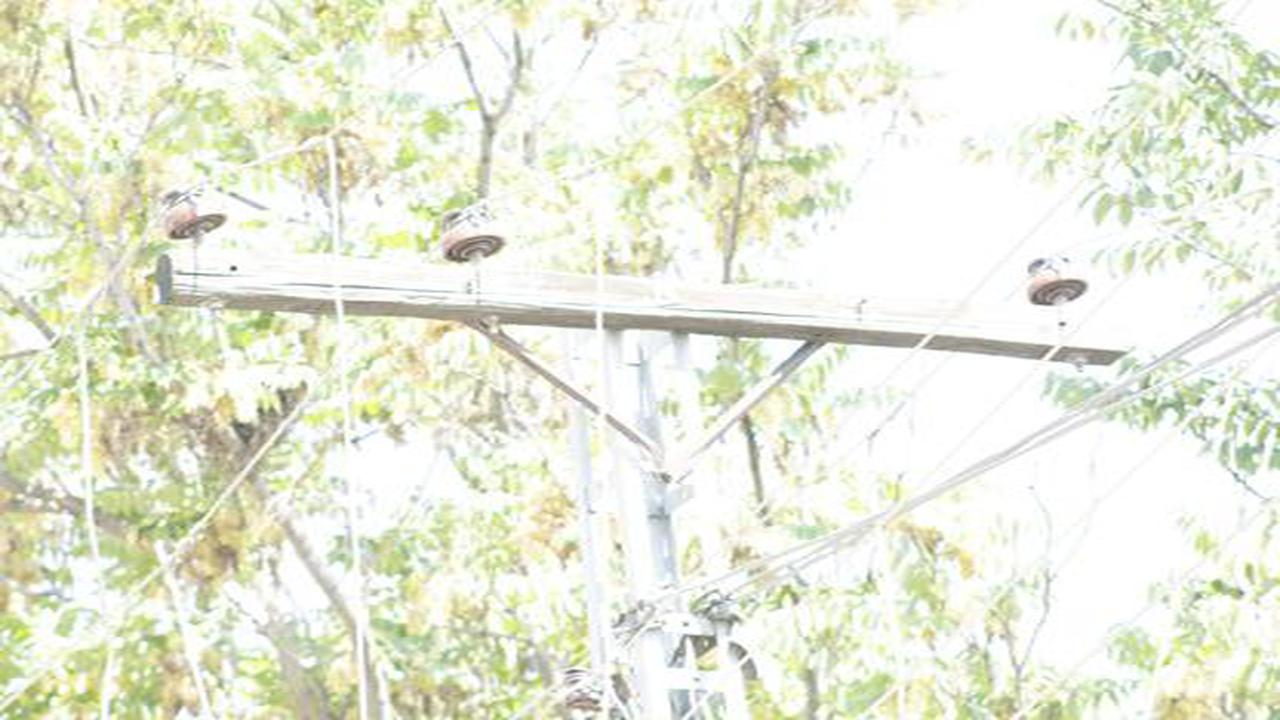insulator_pin: (1023, 251, 1091, 315), (162, 180, 231, 238), (439, 204, 506, 260)
